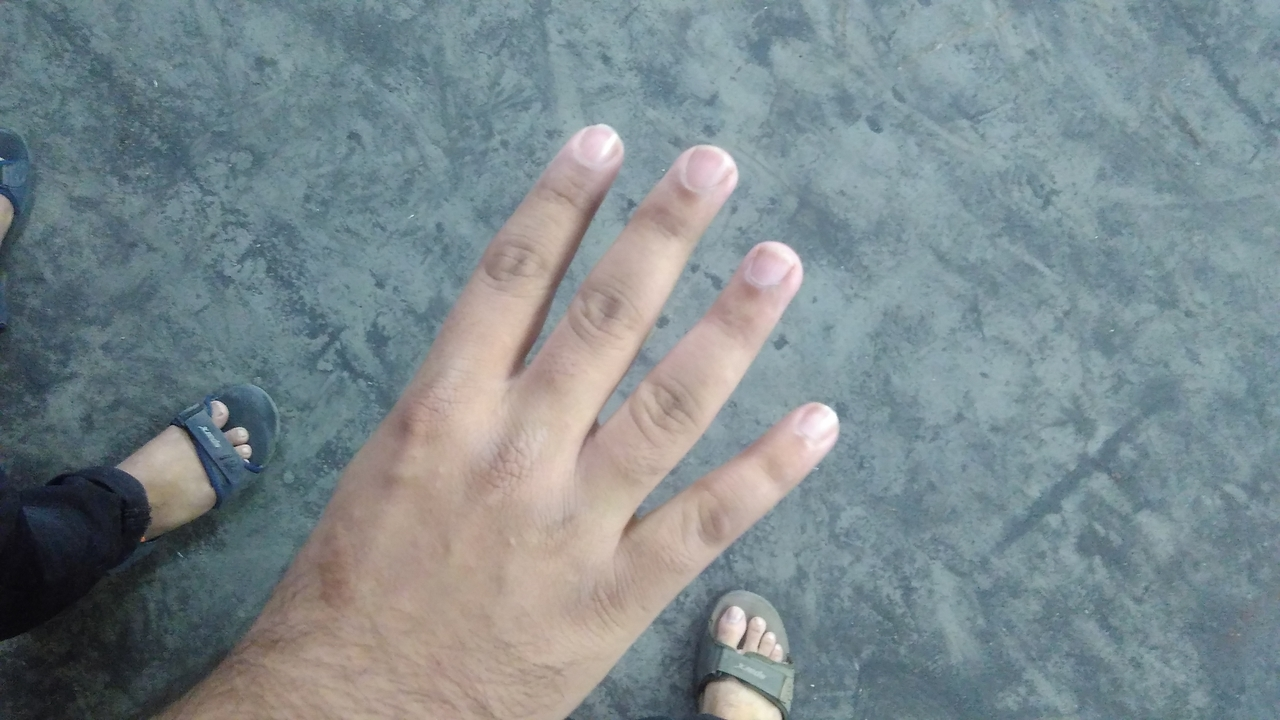fingertip: (664, 136, 752, 202), (766, 392, 856, 454), (736, 230, 814, 296), (560, 116, 634, 178)
